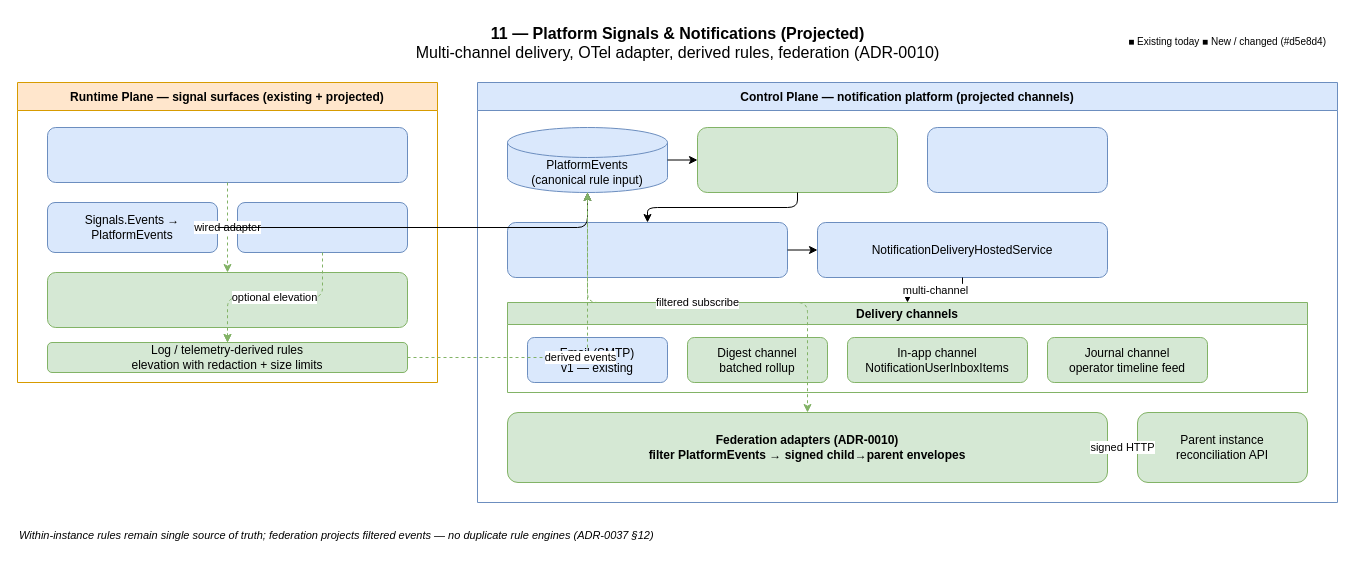
The diagram is 1355 pixels wide and 569 high, and some of its shapes have lost their labels. The shapes that lost their labels are listed below. From the top down, each one's centre as x and y in pixels, then its label:
point (227, 154): IStepExecutionSignals Events • Logs • Telemetry
point (797, 159): NotificationDefinitions event + derived rules
point (1017, 159): Subscriptions + preferences
point (322, 227): Signals.Logs → ILogger
point (647, 250): NotificationInstanceCoordinator render + outbox staging
point (227, 300): OpenTelemetry adapter IModuleTelemetry → OTel exporter
